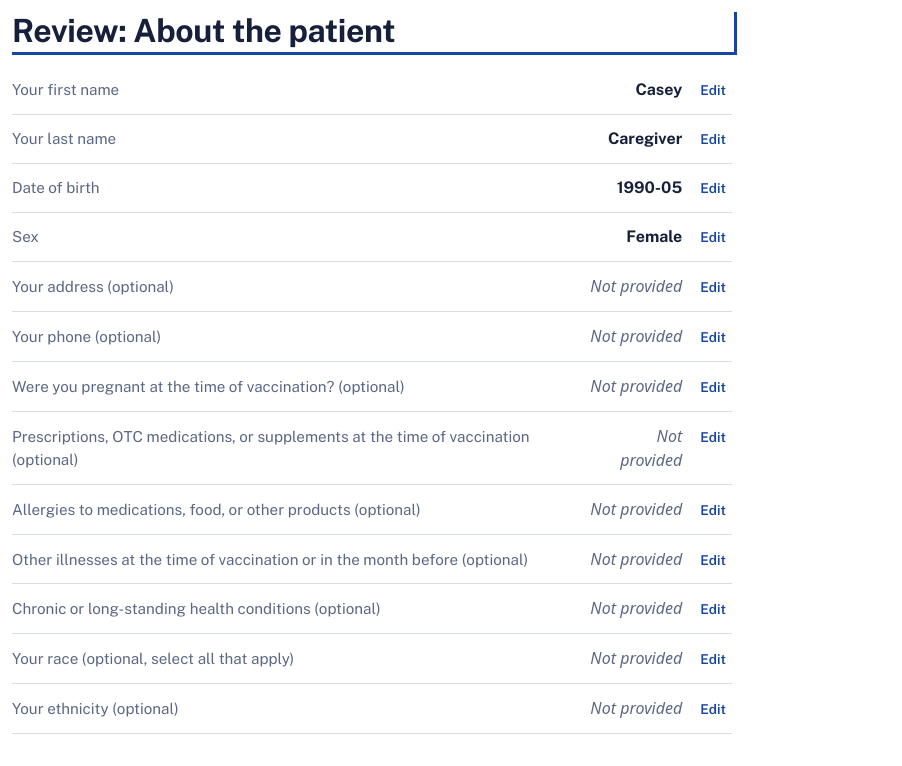
Test: PatientStep — self-report date-of-birth redirect notice › REGRESSION: a self-report with only month/year of birth shows the 'unusual for a self-report' notice and a switch-to-caregiver button
Click the button with aria-label "Edit answer: Date of birth" at (713, 188), box [694,179,732,197]
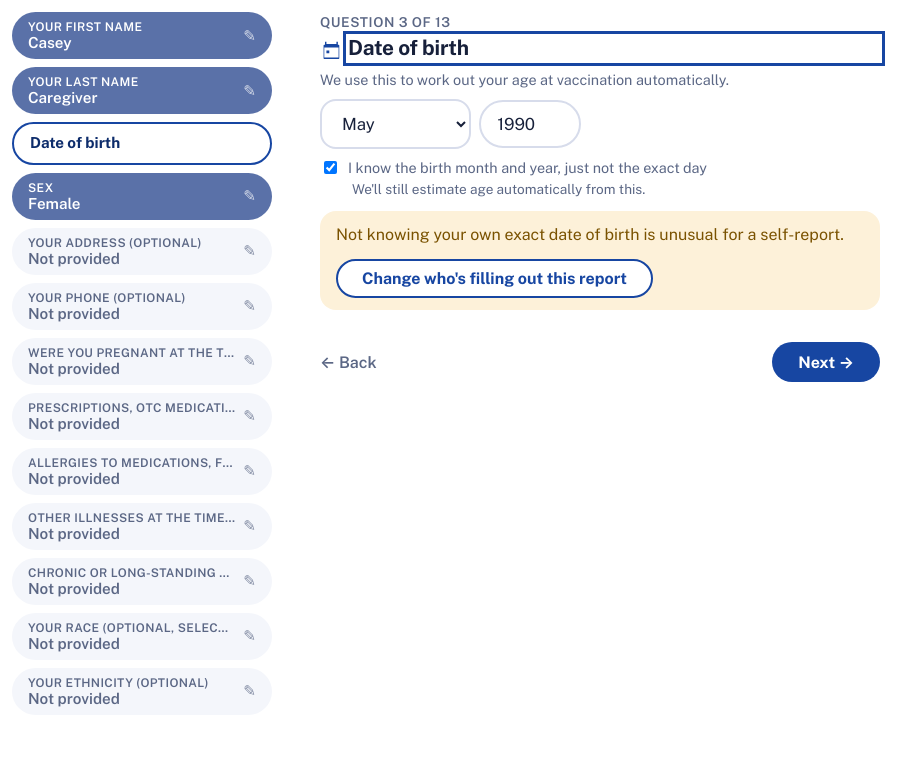
Result: the text "Not knowing your own exact date of birth is unusual for a self-report." is shown at [336,223,864,247]
Result: the button "Change who's filling out this report" is shown at [336,259,653,298]
